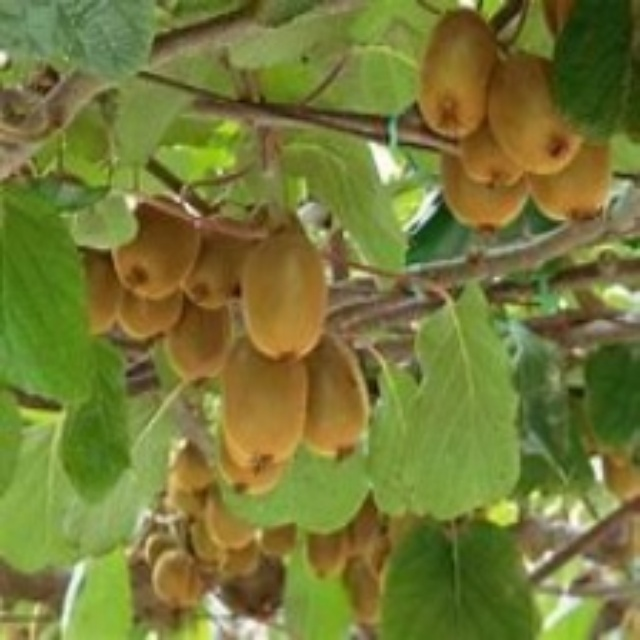kiwi: (415, 9, 614, 226), (68, 195, 265, 388), (215, 343, 369, 502), (240, 238, 329, 362)
